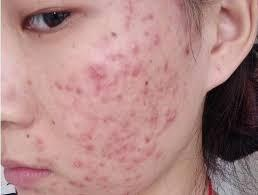fore: (160, 106, 181, 127), (69, 172, 84, 192), (84, 60, 102, 74), (108, 74, 125, 88), (144, 110, 158, 126), (112, 91, 126, 107), (165, 70, 181, 84), (60, 77, 74, 92), (103, 139, 118, 153), (79, 130, 95, 143), (114, 112, 126, 129), (154, 81, 168, 95), (110, 127, 124, 141), (33, 135, 46, 150), (97, 175, 114, 186), (126, 40, 140, 53), (143, 98, 157, 111), (137, 85, 152, 97), (152, 35, 163, 51), (50, 78, 63, 91), (132, 142, 145, 155), (143, 10, 157, 22), (118, 17, 133, 28), (81, 142, 96, 153), (117, 154, 132, 165), (138, 77, 154, 87), (160, 60, 173, 72), (98, 151, 111, 163), (71, 157, 84, 169), (140, 26, 153, 38), (63, 129, 76, 141), (72, 84, 86, 95), (98, 111, 109, 125), (126, 108, 140, 119), (60, 182, 74, 193), (94, 84, 110, 93), (143, 43, 155, 55), (140, 134, 155, 143), (129, 64, 141, 75), (110, 48, 122, 59), (145, 146, 157, 157), (125, 129, 137, 140), (97, 92, 110, 102), (121, 67, 132, 78), (167, 82, 177, 94), (130, 156, 145, 164), (145, 56, 157, 66), (120, 59, 132, 69), (132, 171, 145, 180), (122, 162, 136, 170), (179, 78, 190, 88), (131, 122, 142, 132), (69, 120, 81, 129), (101, 185, 113, 194), (124, 4, 137, 12), (123, 174, 133, 184), (120, 140, 131, 149), (92, 71, 103, 80), (46, 186, 58, 194), (49, 179, 60, 187), (84, 173, 94, 181), (32, 185, 39, 194), (156, 154, 166, 160), (40, 187, 46, 194)
